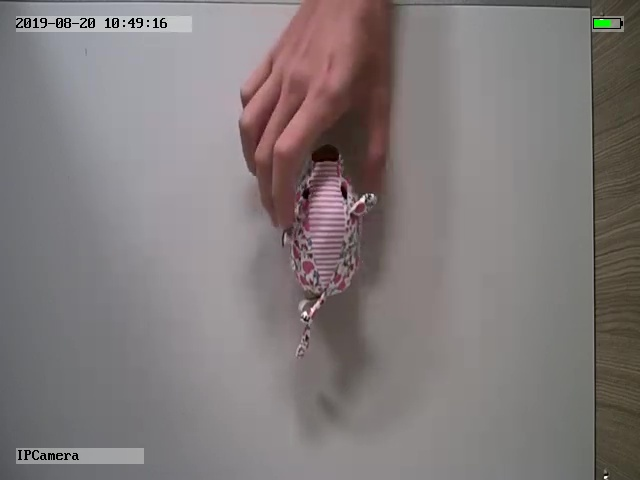pig: (281, 146, 377, 362)
